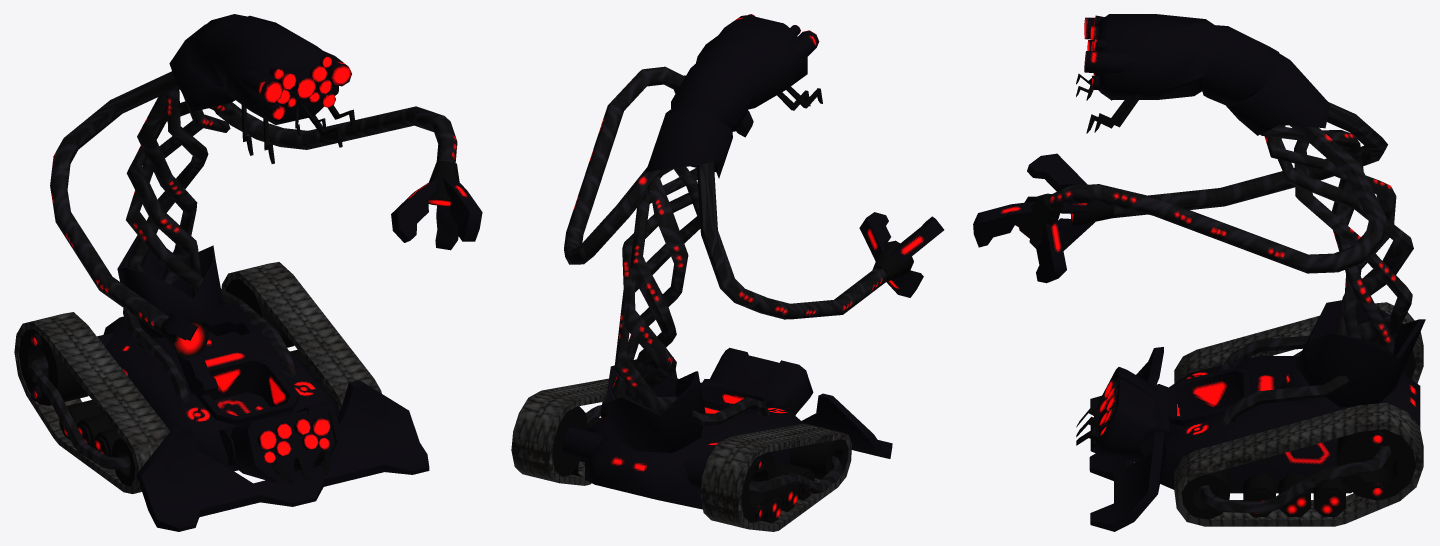
File: robot.glb
3 renders of one model, left to right at view 1: azimuth 30°, elevation 25°; view 2: azimuth 150°, elevation 25°; view 3: azimuth 270°, elevation 25°, orthographic. The views are drawn at different scales.
Visible parts, largest first — view 1: Kalmar.001; view 2: Kalmar.001; view 3: Kalmar.001.
Boxes of the visible parts, x1,y1,x2,y2 form: Kalmar.001: [14, 14, 482, 531]; Kalmar.001: [511, 14, 944, 531]; Kalmar.001: [973, 14, 1425, 531].
Size of what is drawn, in the model's own units: 5.59 by 7.66 by 7.06.
Materials: 1 (1 with a texture image).
